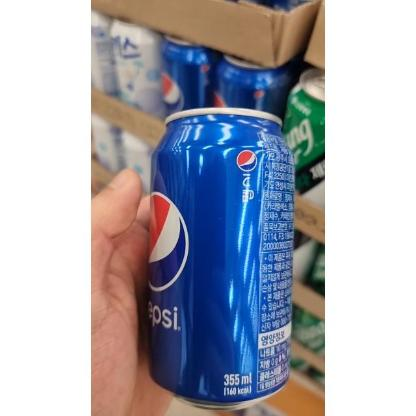Can: (150, 107, 294, 411)
